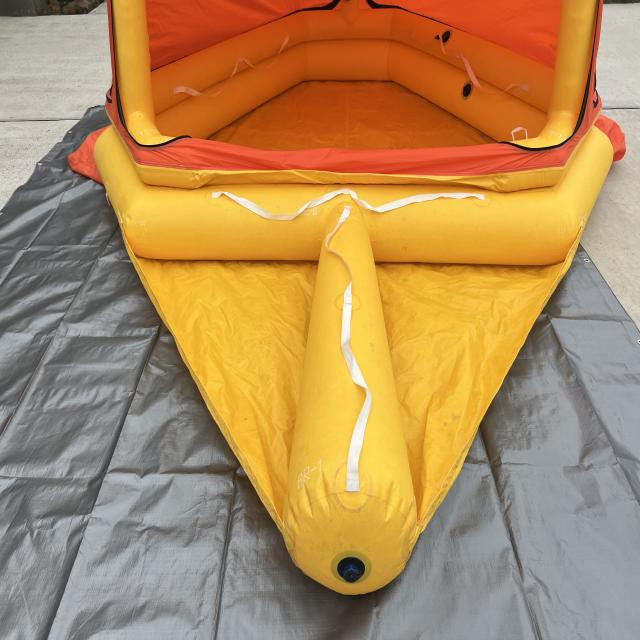Multi-person_life_raft: (67, 1, 627, 616)
